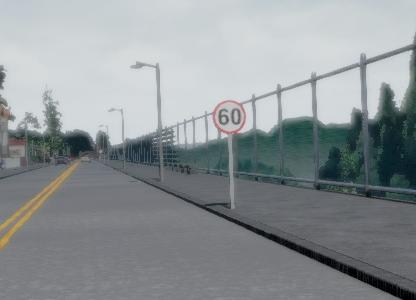Speed_60: (212, 98, 247, 135)
